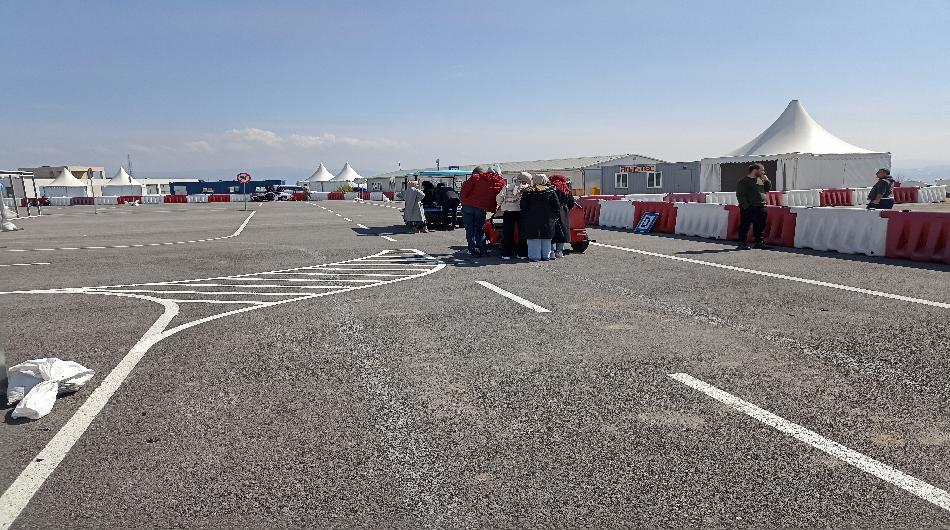yol_calismasi: (157, 248, 467, 343)
